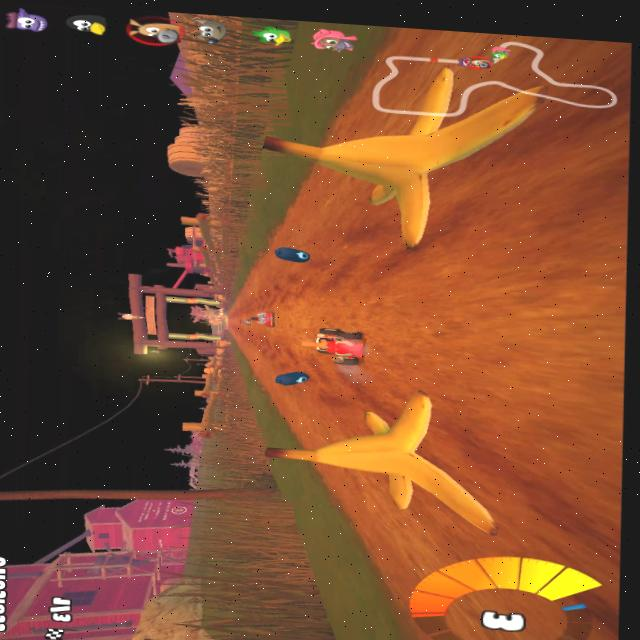enemy_kart: (245, 304, 281, 329)
nitro: (261, 244, 310, 263), (269, 368, 306, 386)
obstacle: (268, 374, 515, 535), (258, 74, 482, 245)
player_kart: (302, 316, 371, 367)
